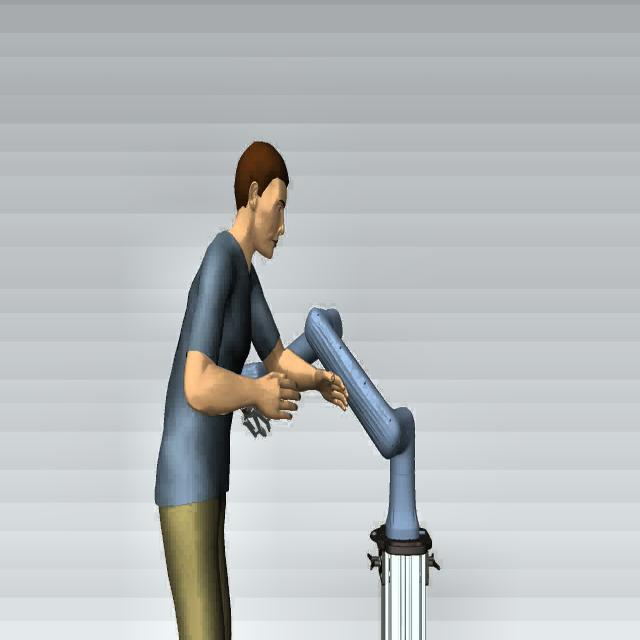robot: (302, 304, 441, 638)
